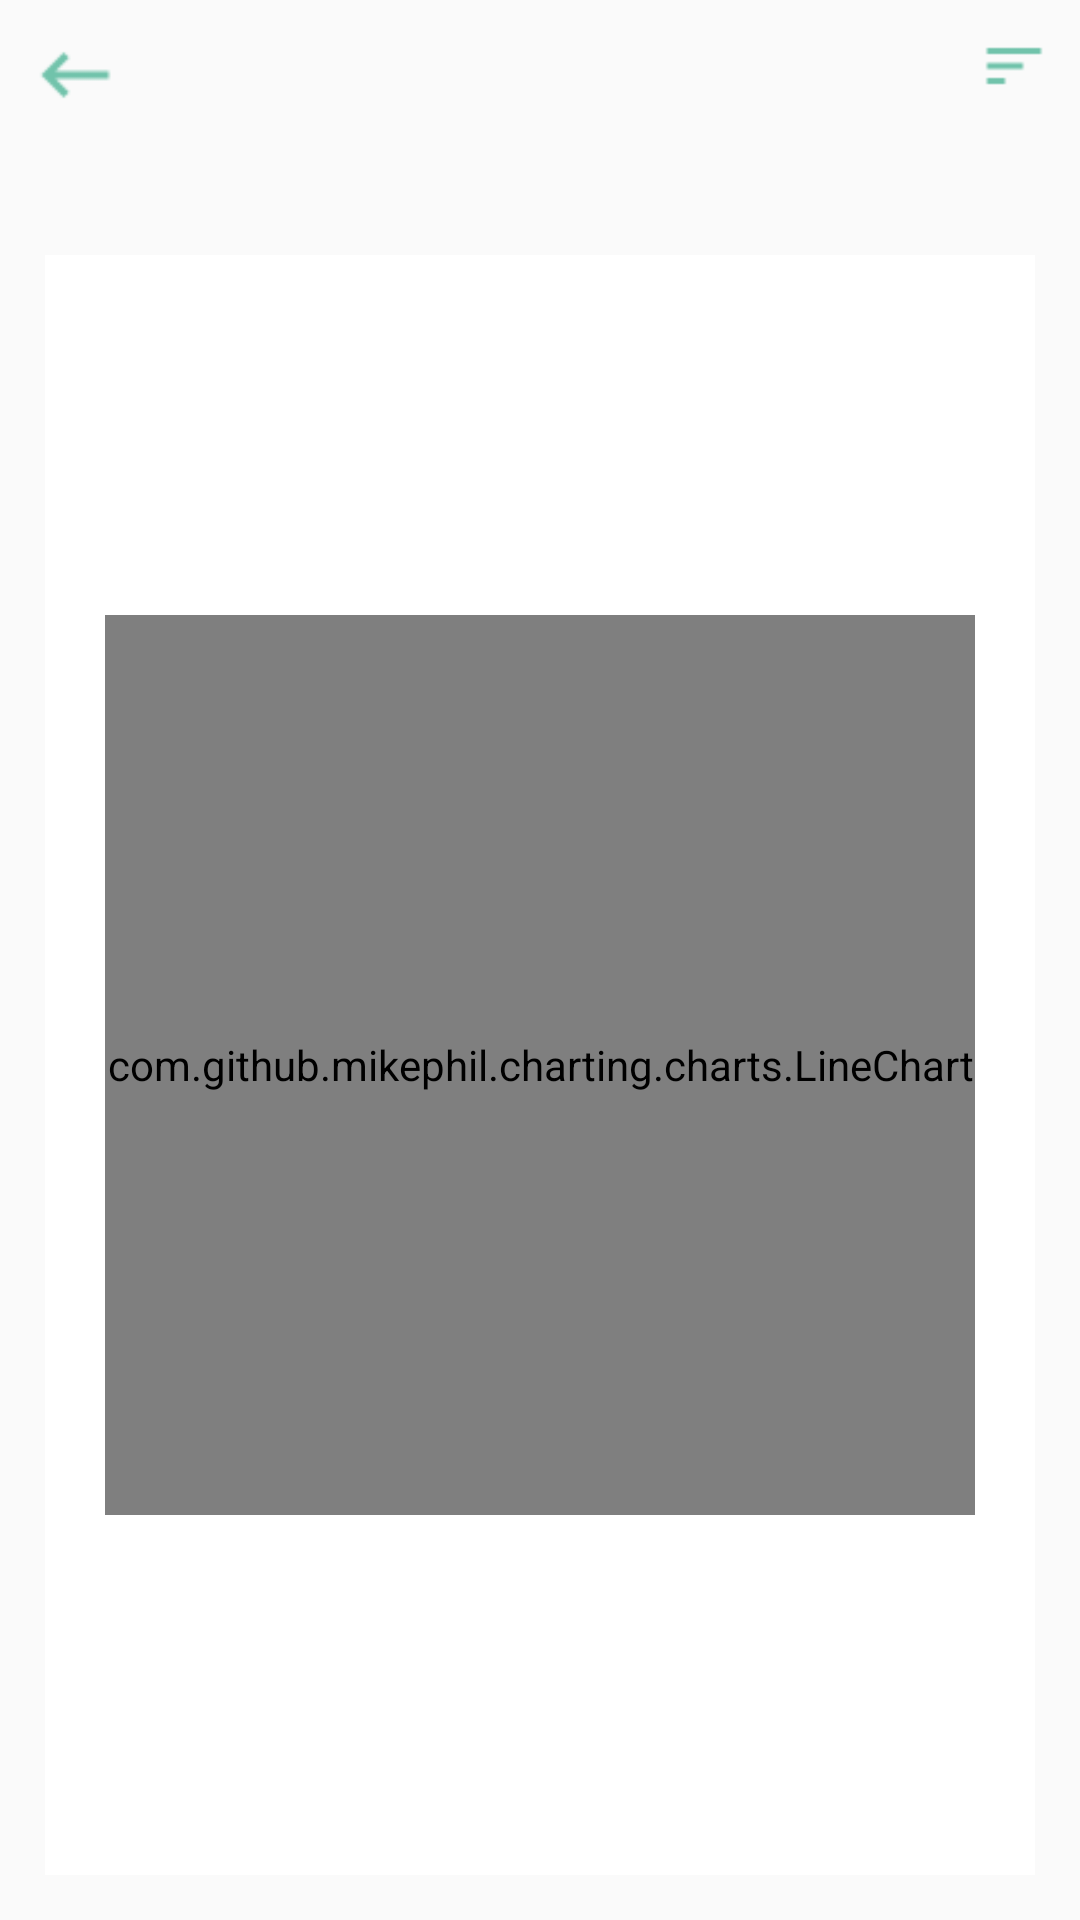

Where to tap for icons on this 1080w x 1920h app screen, as [x,y]:
back: [75,75]
